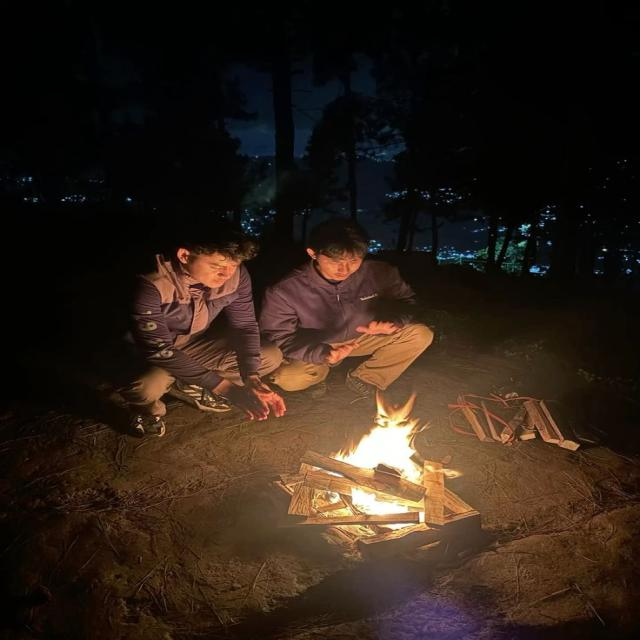fire: (327, 388, 466, 530)
